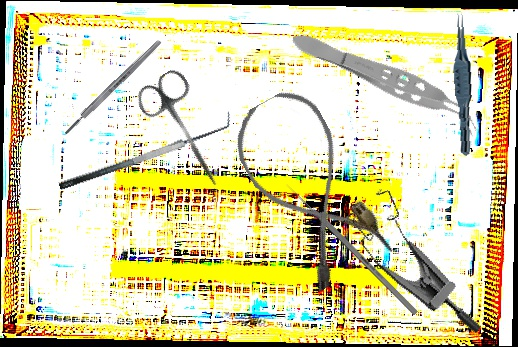Cannula: (221, 80, 396, 295)
Iris Scissors: (131, 65, 241, 199)
Pusher: (284, 181, 419, 316)
Scalpel Handle: (62, 38, 164, 137)
Spatula Surgical: (53, 111, 237, 192)
Speculum: (326, 178, 517, 336)
Tissue Forceps: (286, 23, 487, 138), (448, 11, 479, 157)
